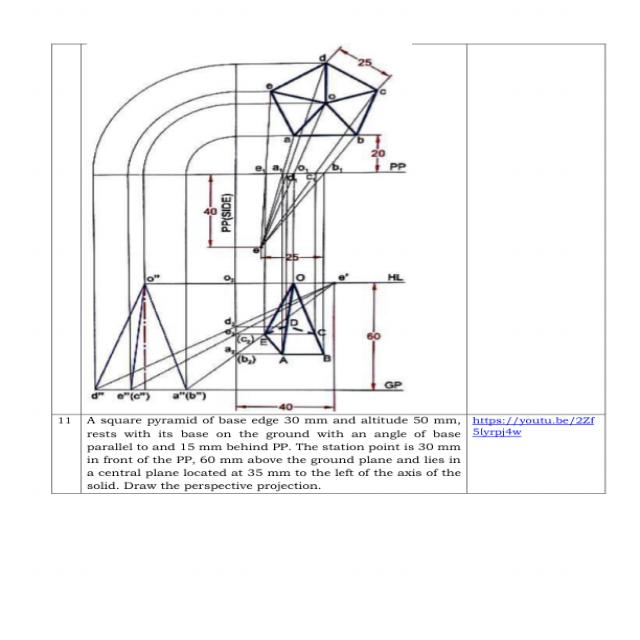Drawings: (86, 45, 416, 413)
